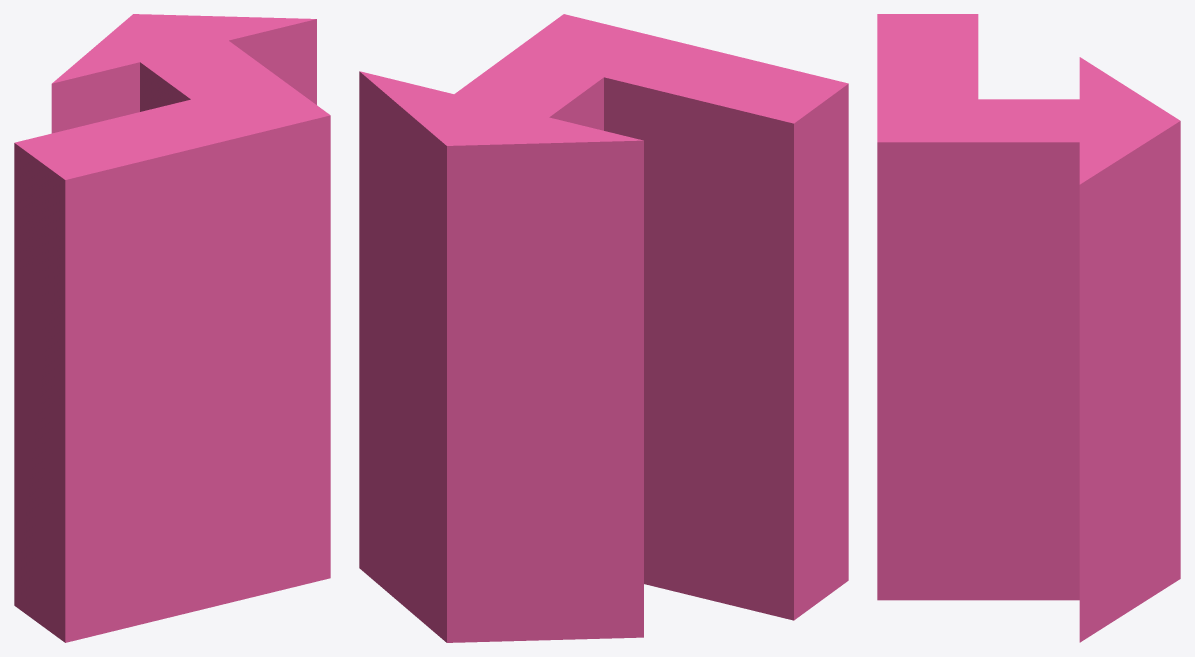
Rendered from ArrowTest.gltf.
3 renders of one model, left to right at view 1: azimuth 30°, elevation 25°; view 2: azimuth 150°, elevation 25°; view 3: azimuth 270°, elevation 25°, orthographic. The views are drawn at different scales.
Parts seen in each view (by area): view 1: ArrowTest; view 2: ArrowTest; view 3: ArrowTest.
Part boxes in pixels (x1,y1,x2,y2): ArrowTest: (14,14,330,642); ArrowTest: (359,14,848,642); ArrowTest: (877,14,1180,642).
Size of the model in its own units: 0.72 by 0.9 by 0.54.
